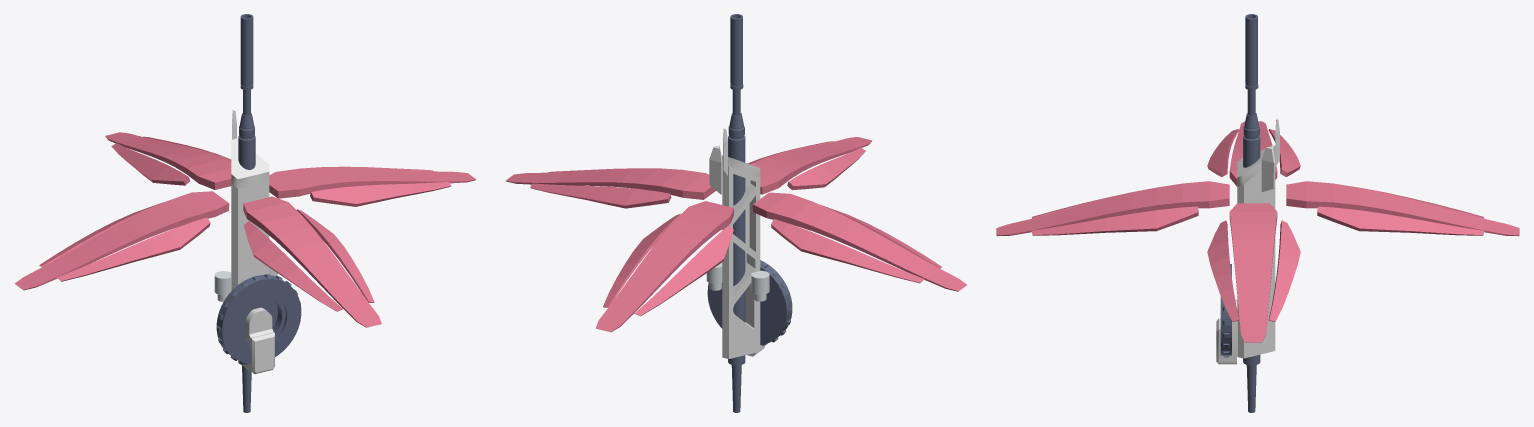
File: station_defense_1.glb
3 views of the same model, side by side, from view 1: azimuth 30°, elevation 25°; view 2: azimuth 150°, elevation 25°; view 3: azimuth 270°, elevation 25° (orthographic).
Parts seen in each view (by area): view 1: Cube.005, Cube.002, Cube.004, Cylinder.018, Cube.001, Cylinder.020, Cylinder.014, Cube.010, Cylinder.021; view 2: Cube.001, Cube.002, Cube.004, Cylinder.020, Cube.005, Cylinder.014, Cylinder.018, Cylinder.017, Cylinder.021; view 3: Cube.004, Cube.005, Cube.001, Cylinder.014, Cylinder.020, Cube.002, Cylinder.017, Cylinder.018, Cube.010.
Boxes of the visible parts, x1,y1,x2,y2 form: Cube.005: (243, 196, 381, 327); Cube.002: (14, 191, 229, 290); Cube.004: (269, 166, 475, 206); Cylinder.018: (216, 274, 301, 364); Cube.001: (105, 132, 231, 189); Cylinder.020: (231, 138, 269, 290); Cylinder.014: (238, 14, 255, 412); Cube.010: (242, 307, 274, 373); Cylinder.021: (214, 271, 231, 301); Cube.001: (595, 201, 733, 332); Cube.002: (752, 192, 966, 291); Cube.004: (505, 168, 715, 208); Cylinder.020: (722, 155, 760, 358); Cube.005: (747, 137, 872, 194); Cylinder.014: (728, 14, 745, 412); Cylinder.018: (707, 260, 792, 345); Cylinder.017: (709, 145, 721, 194); Cylinder.021: (751, 270, 769, 301); Cube.004: (1207, 203, 1300, 342); Cube.005: (996, 181, 1229, 236); Cube.001: (1286, 181, 1519, 236); Cylinder.014: (1243, 14, 1260, 412); Cylinder.020: (1237, 146, 1275, 358); Cube.002: (1207, 121, 1300, 186); Cylinder.017: (1261, 146, 1275, 192); Cylinder.018: (1220, 264, 1231, 357); Cube.010: (1216, 299, 1236, 364).
Size of the model in its own units: 164 by 137 by 164.
